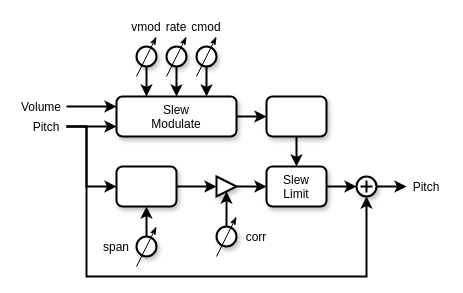
Some shapes in this 463 by 293 pixel diagram are drawn without their labels. Each missing label, with the centre of its shape:
1Hz/10Hz Lowpass: [297,117]
Note Span: [147,187]
